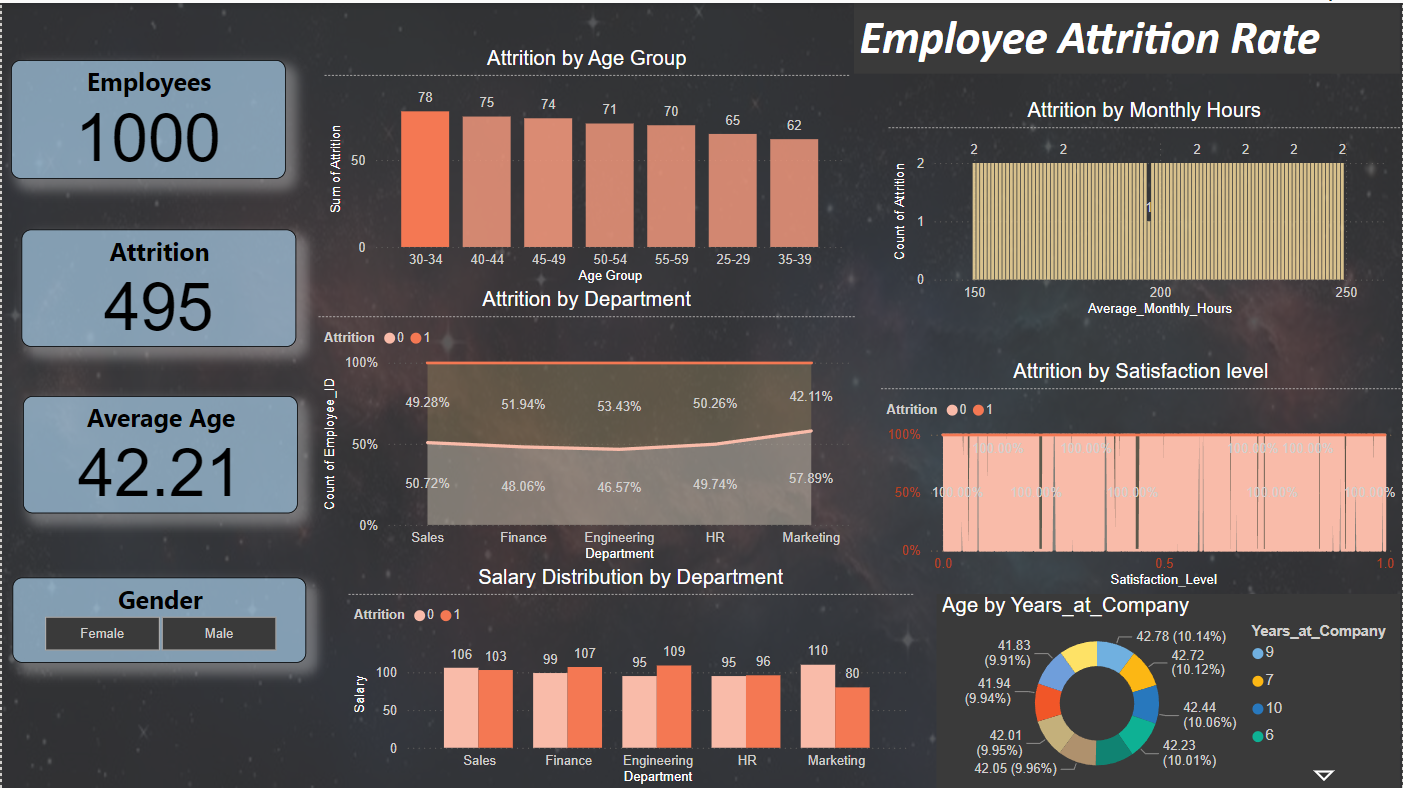

Layout of this report page (visuals, bound fields, positions):
{"tool":"powerbi","page":{"name":"Employee Attrition","canvas":[1280,720],"ordinal":0},"visuals":[{"type":"card","title":"Employees","fields":{"Values":["CountNonNull(employee_attrition_data.Employee_ID)"]},"box":[8.2,52.1,251.1,108.4],"z":0},{"type":"card","title":"Attrition","fields":{"Values":["Sum(employee_attrition_data.Attrition)"]},"box":[17.8,207.2,251.1,107],"z":1000},{"type":"card","title":"Average Age","fields":{"Values":["Avg(employee_attrition_data.Age)"]},"box":[19.2,359.5,251.1,107],"z":2000},{"type":"clusteredColumnChart","title":"Salary Distribution by Department","fields":{"Category":["employee_attrition_data.Department"],"Y":["CountNonNull(employee_attrition_data.Salary)"],"Series":["employee_attrition_data.Attrition"]},"box":[316.5,514.8,516.3,204.4],"z":3000},{"type":"hundredPercentStackedAreaChart","title":"Attrition by Department","fields":{"Category":["employee_attrition_data.Department"],"Series":["employee_attrition_data.Attrition"],"Y":["CountNonNull(employee_attrition_data.Employee_ID)"]},"box":[289.2,260.4,490.6,254.4],"z":4000},{"type":"columnChart","title":"Attrition by Age Group","fields":{"Category":["employee_attrition_data.Age Group"],"Y":["Sum(employee_attrition_data.Attrition)"]},"box":[295.3,39.4,480,221.1],"z":5000},{"type":"hundredPercentStackedAreaChart","title":"Attrition by Satisfaction level","fields":{"Series":["employee_attrition_data.Attrition"],"Y":["CountNonNull(employee_attrition_data.Employee_ID)"],"Category":["employee_attrition_data.Satisfaction_Level"]},"box":[804,327.1,475.5,212],"z":6000},{"type":"columnChart","title":"Attrition by Monthly Hours","fields":{"Y":["Count(employee_attrition_data.Attrition)"],"Category":["employee_attrition_data.Average_Monthly_Hours"]},"box":[811.6,87.8,467.9,202.9],"z":7000},{"type":"slicer","title":"Gender ","fields":{"Values":["employee_attrition_data.Gender"]},"box":[9.6,525.6,269,78.2],"z":8000},{"type":"donutChart","title":"Age by Years_at_Company","fields":{"Category":["employee_attrition_data.Years_at_Company"],"Y":["Avg(employee_attrition_data.Age)"]},"box":[855.5,540.6,424,178.7],"z":9000},{"type":"textbox","box":[779.5,0,499.5,64.5],"z":10000}]}

Visuals, with their boxes in screenshot pixels (x1, y1, x2, y2), scaled from the page's 1280x720 canvas onto the 1403x788 screenshot:
"Employees" card: 9,57,284,176
"Attrition" card: 20,227,295,344
"Average Age" card: 21,393,296,511
"Salary Distribution by Department" clusteredColumnChart: 347,563,913,787
"Attrition by Department" hundredPercentStackedAreaChart: 317,285,855,563
"Attrition by Age Group" columnChart: 324,43,850,285
"Attrition by Satisfaction level" hundredPercentStackedAreaChart: 881,358,1402,590
"Attrition by Monthly Hours" columnChart: 890,96,1402,318
"Gender " slicer: 11,575,305,661
"Age by Years_at_Company" donutChart: 938,592,1402,787
textbox: 854,0,1402,71
